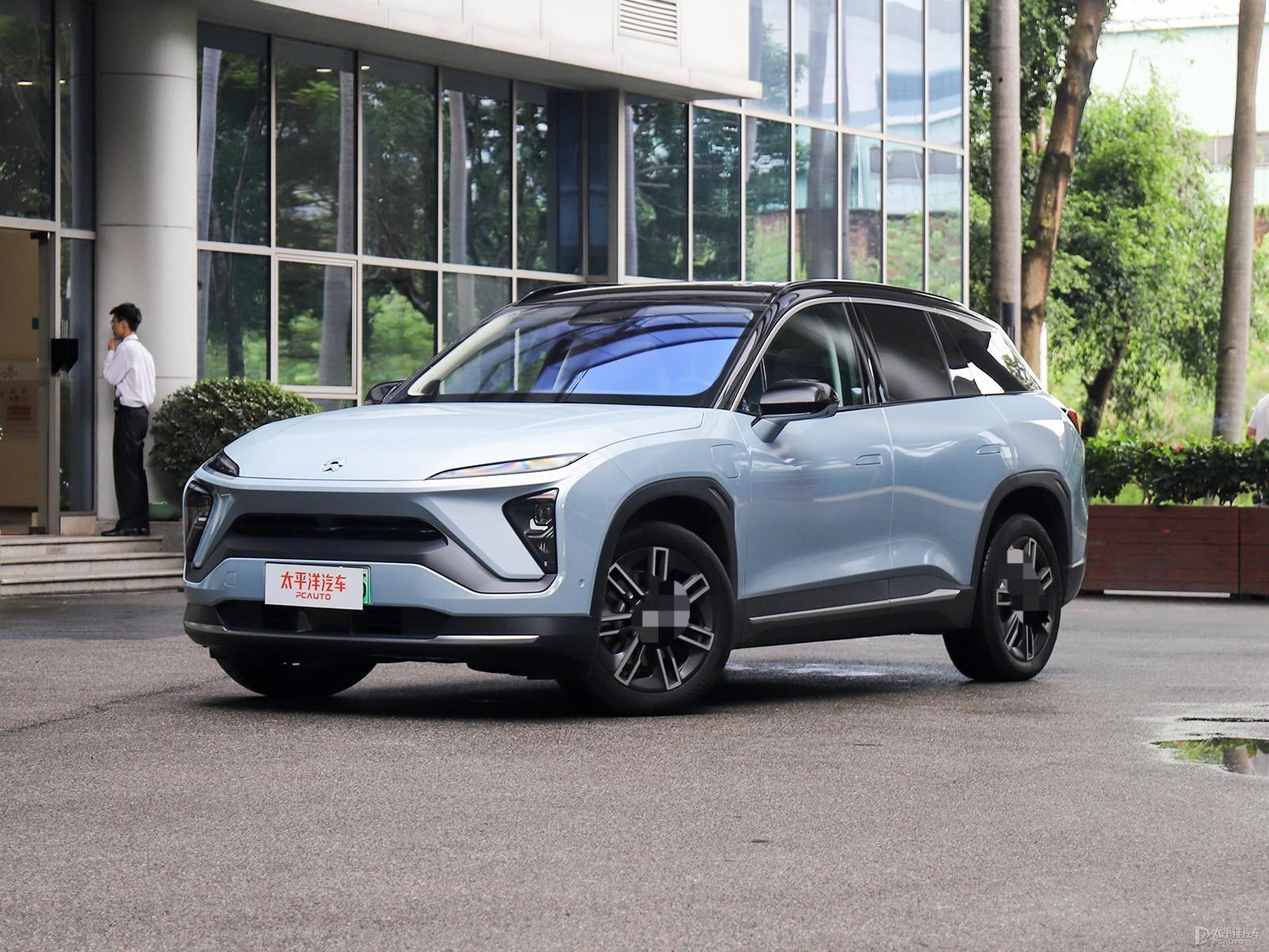NIO: (320, 455, 347, 474)
